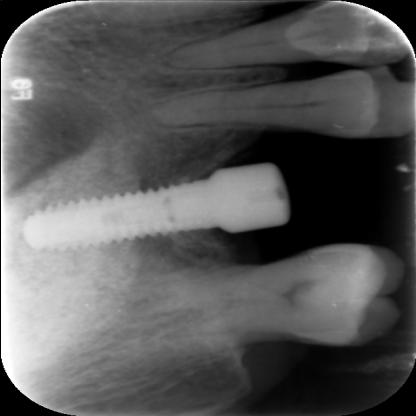Bego: (15, 176, 212, 257)
